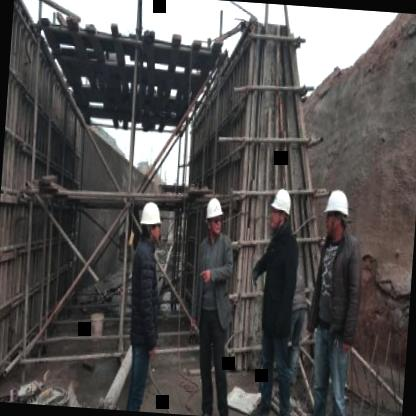helmet: (322, 186, 352, 244), (266, 186, 294, 233), (138, 197, 164, 244), (203, 196, 225, 242)
